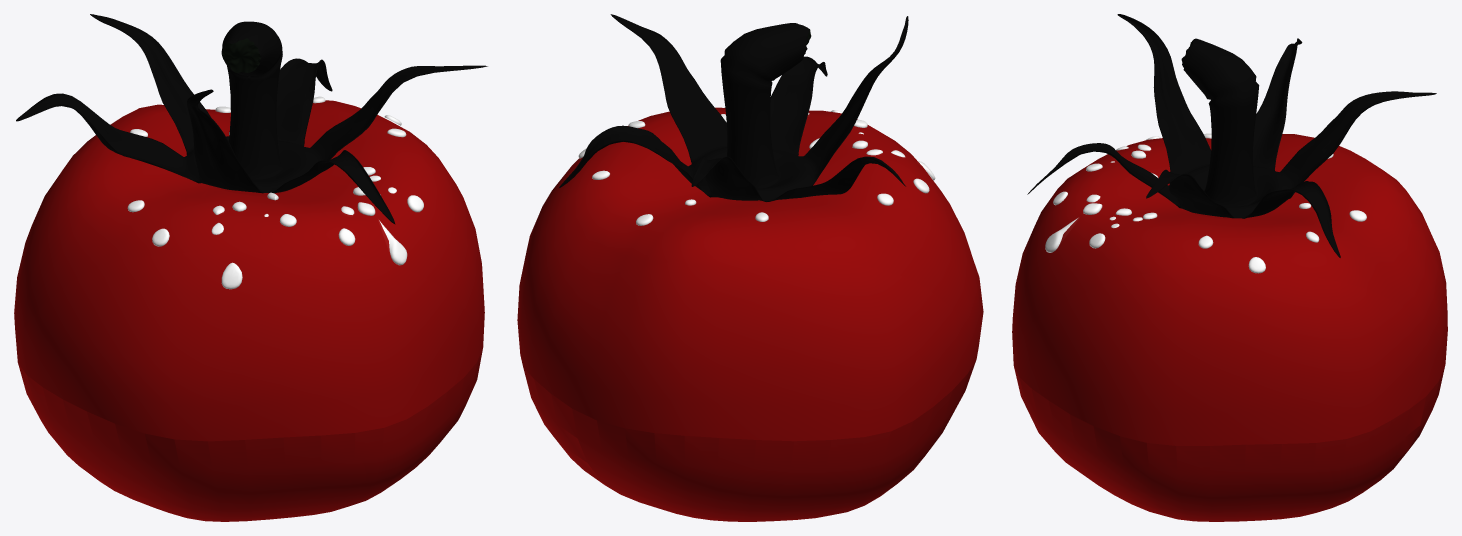
The model's file is 토마토.FBX.
3 views of the same model, side by side, from view 1: azimuth 30°, elevation 25°; view 2: azimuth 150°, elevation 25°; view 3: azimuth 270°, elevation 25° (orthographic). The views are drawn at different scales.
Parts seen in each view (by area): view 1: tomat05, tomat06, water; view 2: tomat05, tomat06, water; view 3: tomat05, tomat06, water.
Boxes of the visible parts, x1=… form: tomat05: x1=14, y1=100, x2=484, y2=521; tomat06: x1=16, y1=14, x2=487, y2=224; water: x1=127, y1=96, x2=423, y2=289; tomat05: x1=517, y1=107, x2=983, y2=521; tomat06: x1=559, y1=14, x2=908, y2=201; water: x1=578, y1=107, x2=935, y2=225; tomat05: x1=1012, y1=134, x2=1447, y2=521; tomat06: x1=1027, y1=14, x2=1436, y2=257; water: x1=1045, y1=133, x2=1366, y2=273.
Bounding box in the file's own units: 59.21 × 66 × 60.03.
